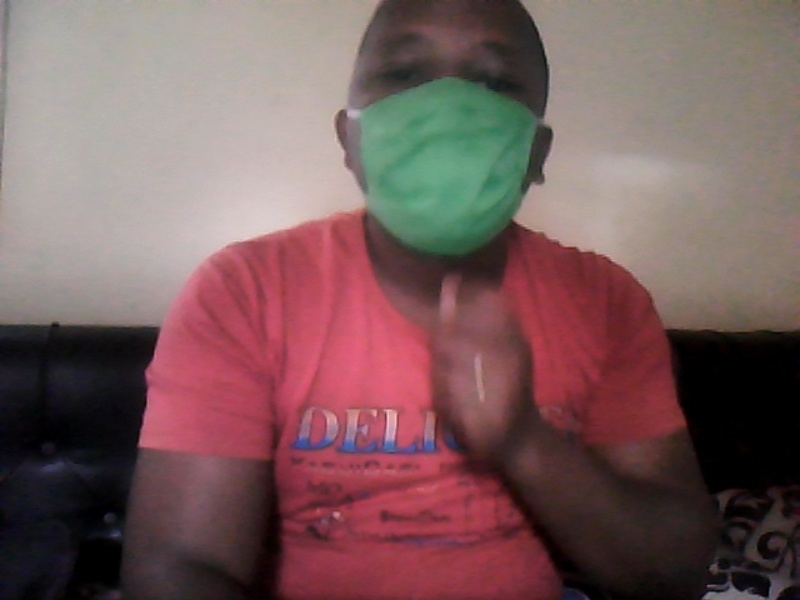ManaoArotava: (329, 10, 562, 265)
